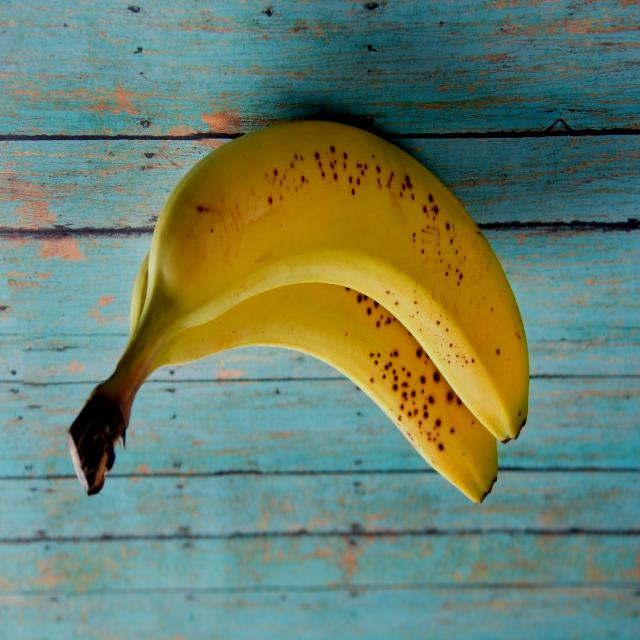chuoi: (67, 122, 529, 503)
